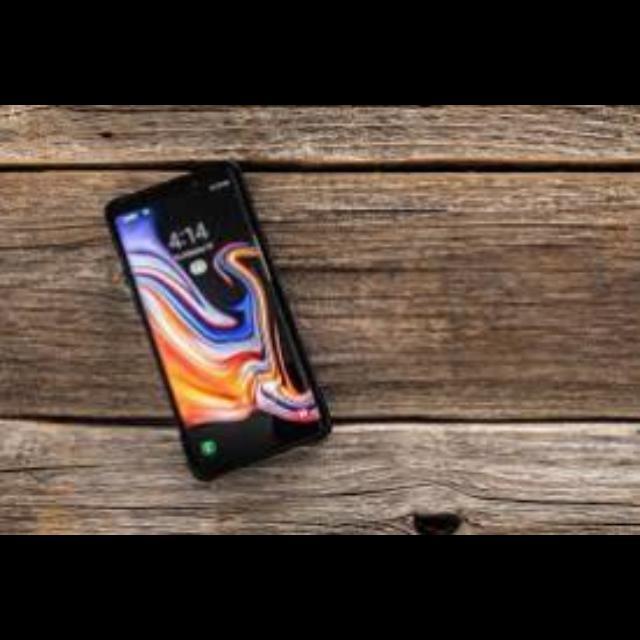Phone: (106, 160, 332, 482)
